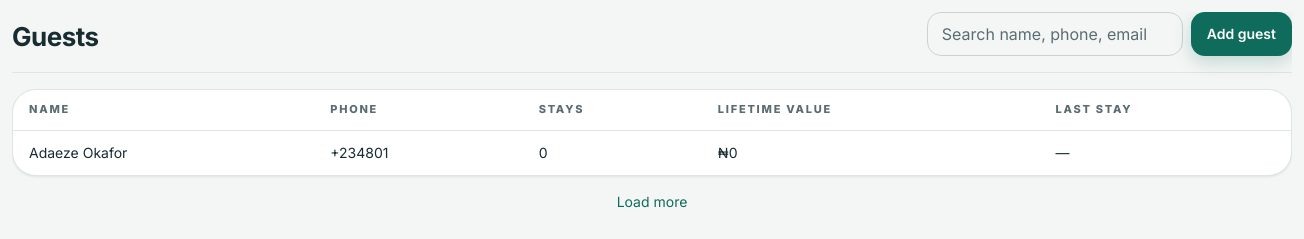
Test: GuestsPage paging [GST-02] › appends the next page on Load more
The image size is (1304, 239).
Expected: the text "Adaeze Okafor" is shown, [13,130,314,175]
Expected: the text "Zainab Yusuf" is not shown
Click the button "Load more" at (652, 202), box [617,192,687,212]
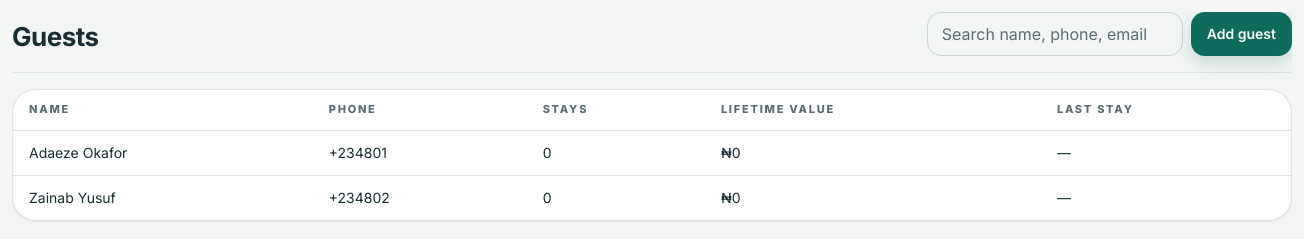
Expected: the text "Adaeze Okafor" is shown, [13,130,313,175]
Result: the text "Zainab Yusuf" is shown at [13,175,313,220]
Result: the button "Load more" is gone
